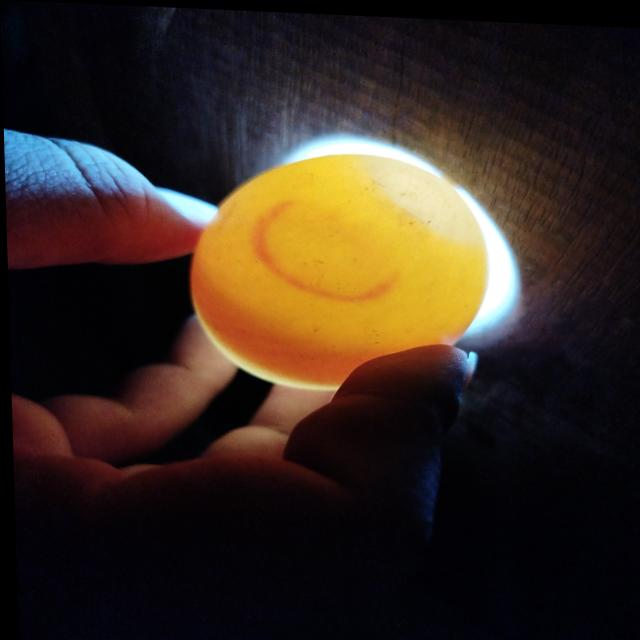Camara de Ar: (369, 152, 484, 238)
Gema Quebrada: (188, 252, 385, 384)
